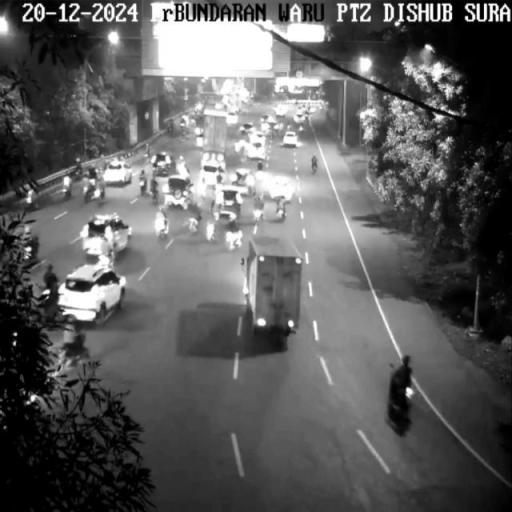car: (56, 264, 126, 318)
motorcycle: (42, 338, 92, 382), (388, 363, 414, 430)
truck: (244, 233, 302, 336)
